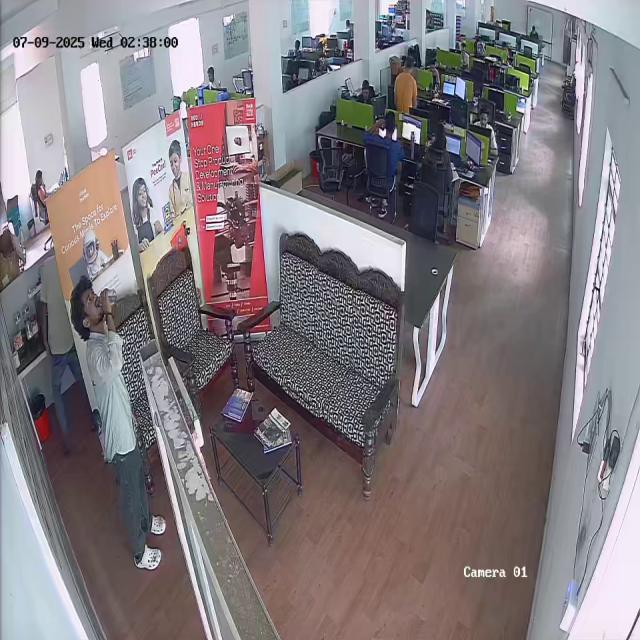person: (65, 277, 143, 583), (366, 110, 402, 217), (393, 60, 417, 114), (32, 168, 52, 208)
